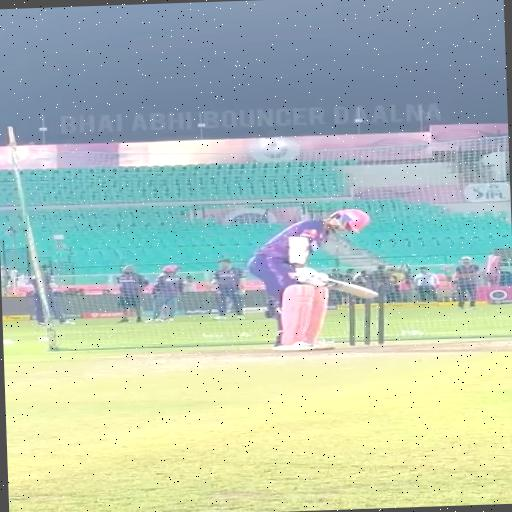Cricket bat: (328, 278, 377, 298)
